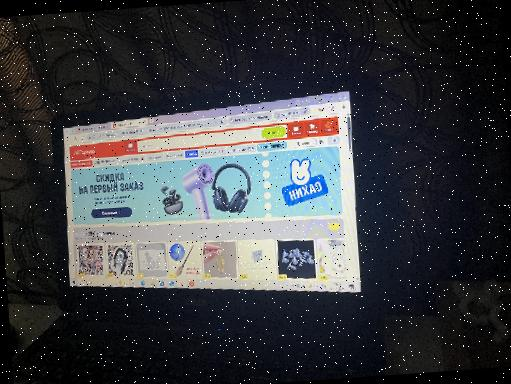aliexpress: (58, 113, 362, 301)
